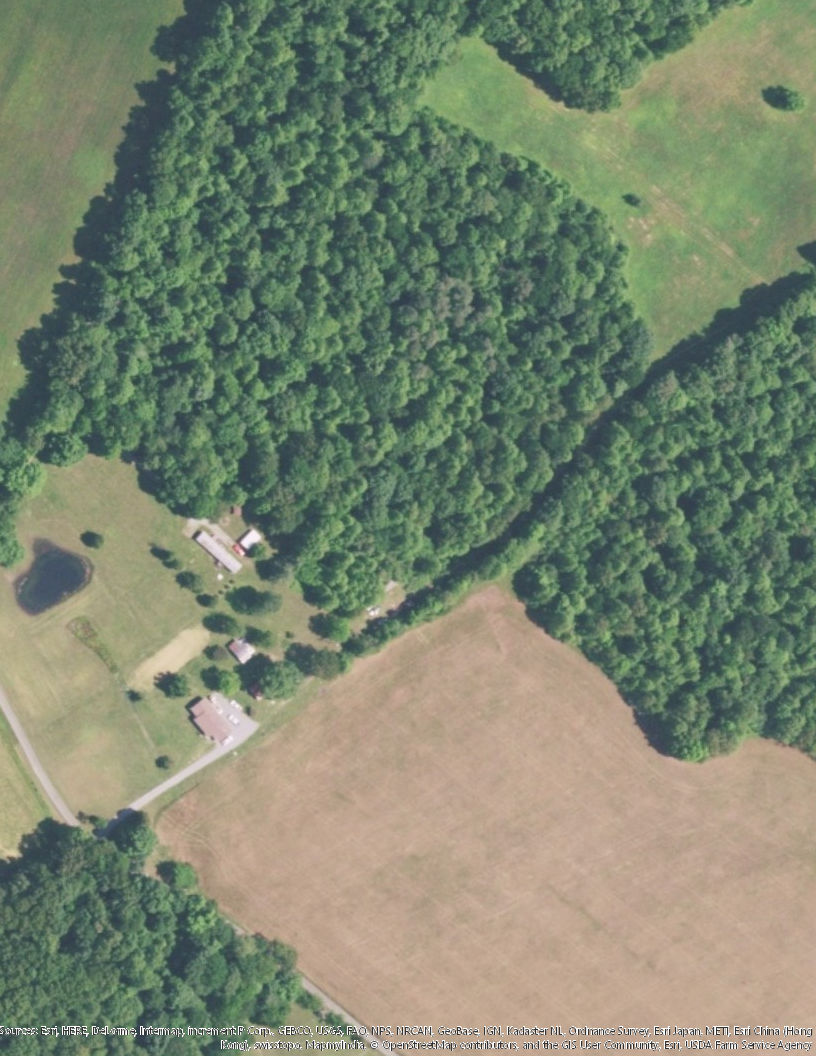cafo: (194, 526, 244, 574)
